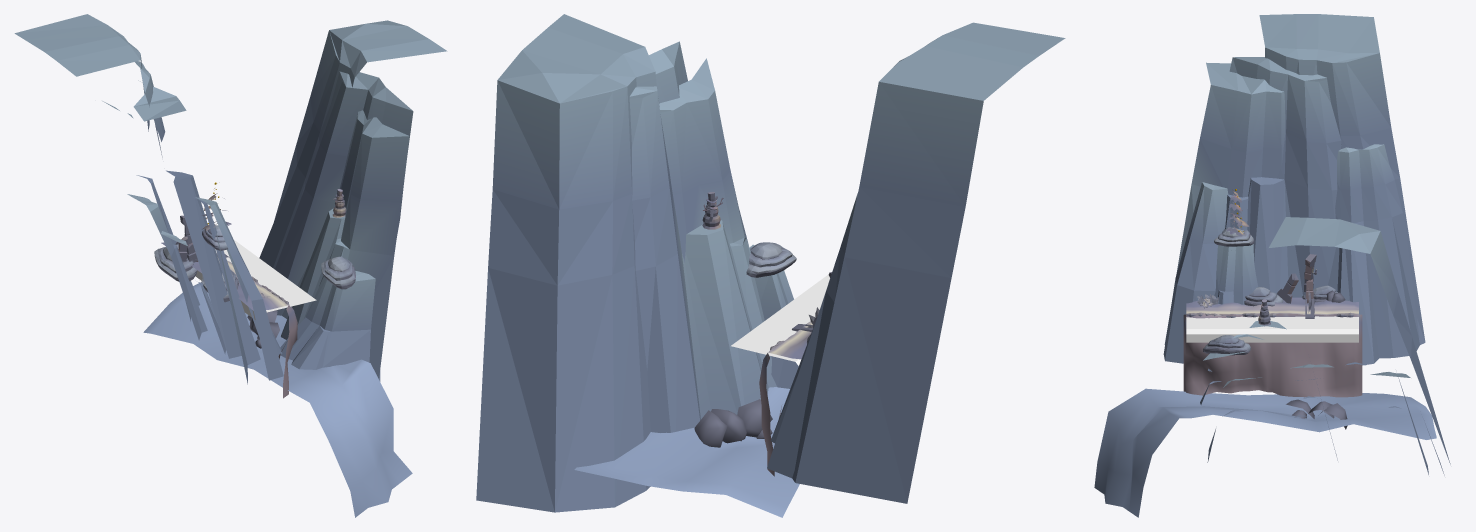
File: Arctic_Narrows_Right_Straight_A_Jump_B.glb
The picture shows the model from 3 angles, left to right: view 1: azimuth 30°, elevation 25°; view 2: azimuth 150°, elevation 25°; view 3: azimuth 270°, elevation 25°; orthographic projection. The views are drawn at different scales.
Visible parts, largest first — view 1: Arctic_Narrows_Left_IceWall_A02 (1), Arctic_Narrows_Right_Straight_A, Arctic_Narrows_Right_IceWall_A02 (1), Arctic_Narrows_Left_IceWall_A02_Right, Arctic_Narrows_Right_IceWall_A02_Left, Arctic_Narrows_Right_IceWall_A02_Mid, inv_fill; view 2: Arctic_Narrows_Left_IceWall_A02 (1), Arctic_Narrows_Right_IceWall_A02 (1), Arctic_Narrows_Right_Straight_A, Arctic_Narrows_Right_IceWall_A02_Right, inv_fill, Arctic_Narrows_Left_Rock_A01 (1), Arctic_Narrows_Left_IceWall_A02_Right; view 3: Arctic_Narrows_Right_IceWall_A02 (1), Arctic_Narrows_Right_Straight_A, Arctic_Narrows_Right_IceWall_A02_Right, Arctic_Narrows_Right_IceWall_A02_Left, Arctic_Narrows_Left_IceWall_A02 (1), inv_fill, Arctic_Narrows_Left_Rock_A01 (1), Arctic_Narrows_Left_IceWall_A02_Left.
Part boxes in pixels (x1,y1,x2,y2): Arctic_Narrows_Left_IceWall_A02 (1): [259, 20, 447, 378]; Arctic_Narrows_Right_Straight_A: [143, 241, 412, 517]; Arctic_Narrows_Right_IceWall_A02 (1): [14, 14, 260, 384]; Arctic_Narrows_Left_IceWall_A02_Right: [280, 271, 375, 369]; Arctic_Narrows_Right_IceWall_A02_Left: [195, 197, 283, 380]; Arctic_Narrows_Right_IceWall_A02_Mid: [127, 194, 225, 354]; inv_fill: [195, 240, 316, 319]; Arctic_Narrows_Left_IceWall_A02 (1): [476, 14, 776, 512]; Arctic_Narrows_Right_IceWall_A02 (1): [792, 22, 1065, 503]; Arctic_Narrows_Right_Straight_A: [574, 321, 812, 517]; Arctic_Narrows_Right_IceWall_A02_Right: [767, 193, 857, 478]; inv_fill: [731, 274, 829, 365]; Arctic_Narrows_Left_Rock_A01 (1): [694, 399, 772, 447]; Arctic_Narrows_Left_IceWall_A02_Right: [749, 244, 798, 388]; Arctic_Narrows_Right_IceWall_A02 (1): [1164, 14, 1425, 344]; Arctic_Narrows_Right_Straight_A: [1094, 297, 1436, 517]; Arctic_Narrows_Right_IceWall_A02_Right: [1327, 144, 1419, 365]; Arctic_Narrows_Right_IceWall_A02_Left: [1163, 182, 1258, 371]; Arctic_Narrows_Left_IceWall_A02 (1): [1220, 217, 1450, 464]; inv_fill: [1186, 316, 1358, 342]; Arctic_Narrows_Left_Rock_A01 (1): [1286, 399, 1347, 429]; Arctic_Narrows_Left_IceWall_A02_Left: [1345, 362, 1444, 475].
Bounding box in the file's own units: 24.7 × 26.53 × 22.7.
